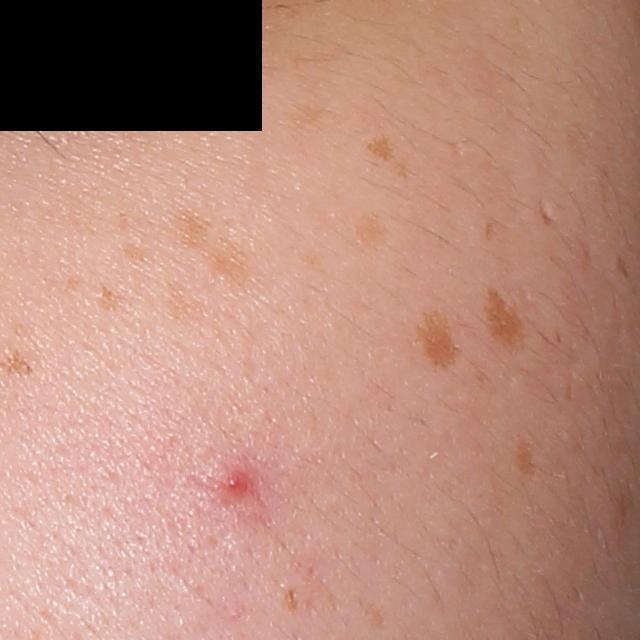atrophic_scar: (537, 198, 559, 229)
melasma: (480, 285, 532, 361), (414, 301, 465, 374), (200, 239, 251, 286), (169, 205, 214, 254), (512, 434, 545, 486), (351, 208, 392, 249), (356, 594, 395, 635), (364, 133, 398, 165), (97, 284, 127, 311), (118, 241, 150, 266), (614, 254, 632, 280), (484, 219, 496, 245)
papule: (215, 462, 256, 503)
